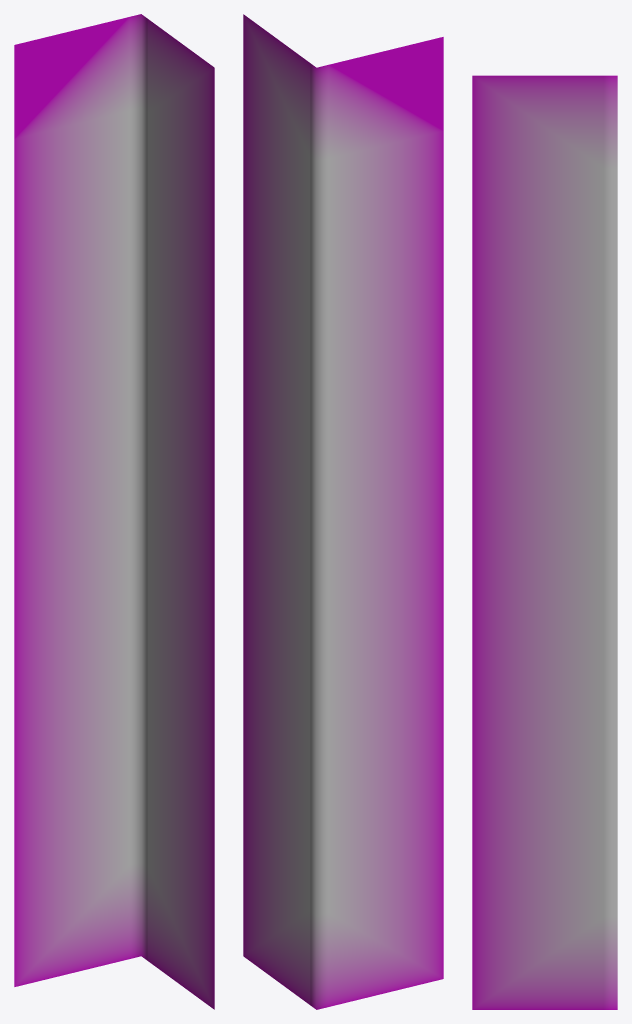
Rendered from Decal_DamageInnerCorner.fbx.
3 renders of one model, left to right at view 1: azimuth 30°, elevation 25°; view 2: azimuth 210°, elevation 25°; view 3: azimuth 270°, elevation 25°, orthographic.
Visible parts, largest first — view 1: Decal_DamageInnerCorner; view 2: Decal_DamageInnerCorner; view 3: Decal_DamageInnerCorner.
Boxes of the visible parts, bbox=[...] form: Decal_DamageInnerCorner: bbox=[14, 14, 214, 1009]; Decal_DamageInnerCorner: bbox=[243, 14, 443, 1009]; Decal_DamageInnerCorner: bbox=[472, 75, 617, 1009].
Size of the model in its own units: 52.5 by 372 by 52.5.
